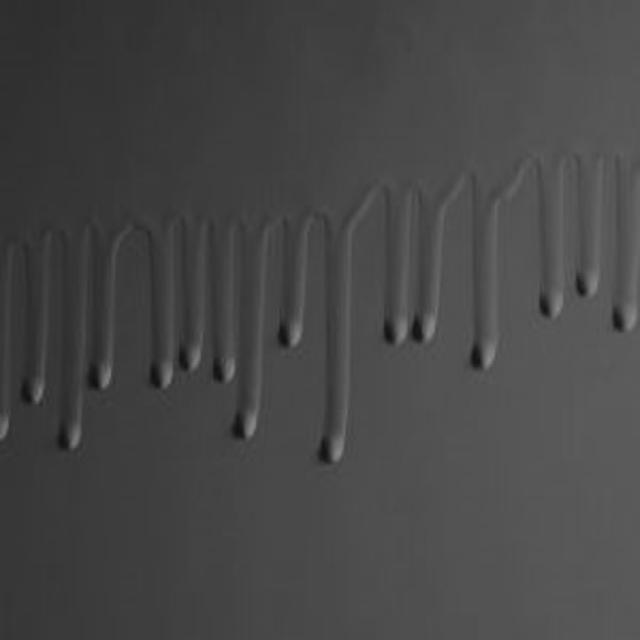paint drips: (201, 136, 370, 478), (355, 120, 521, 378), (508, 104, 640, 346), (131, 161, 238, 394), (39, 174, 116, 458), (0, 196, 57, 475)
